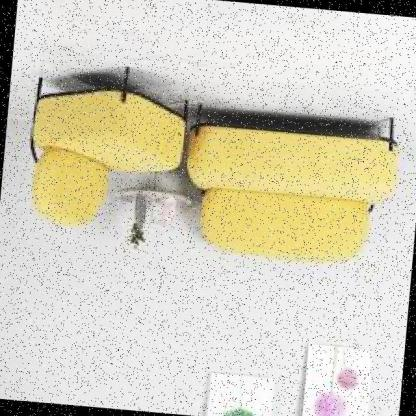Sofa: (172, 76, 410, 280), (5, 52, 198, 263)
